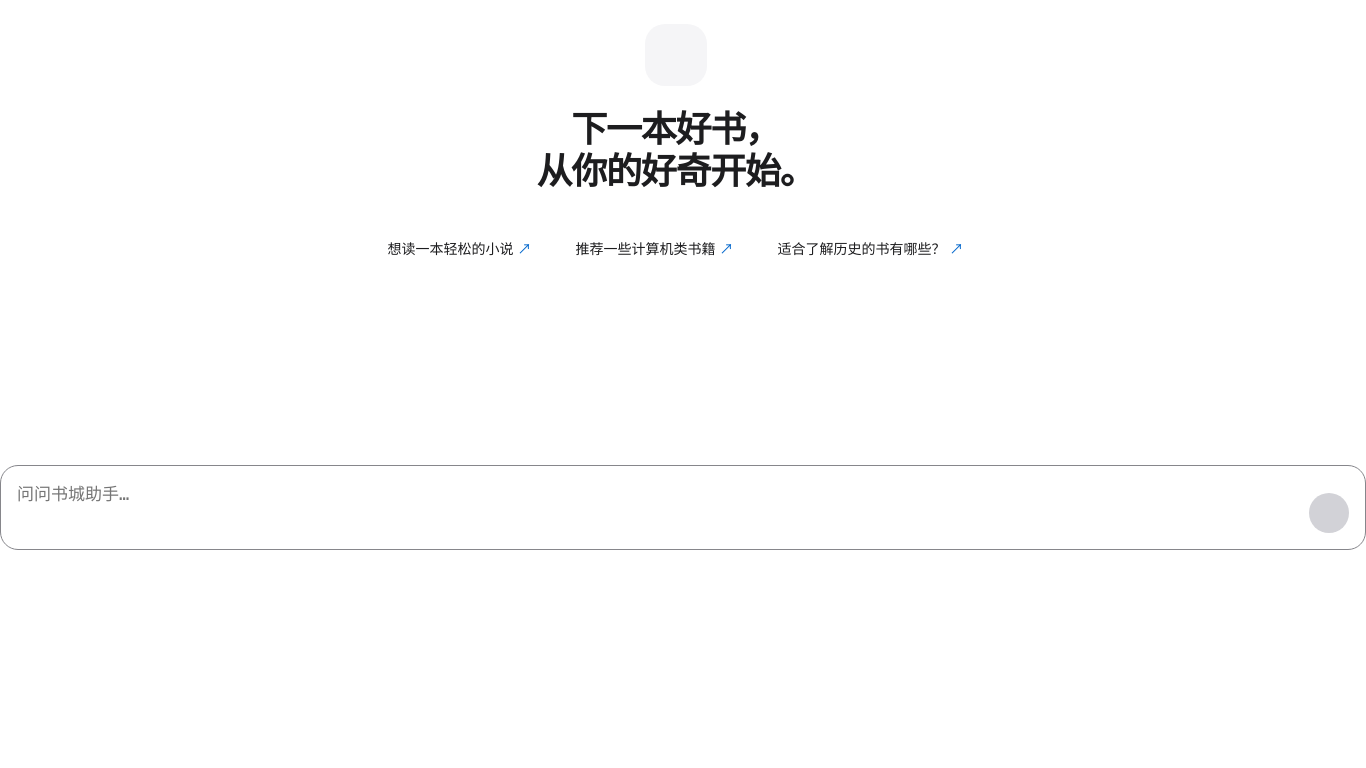
it: AI conversation › keeps a failed question available for retry
Type "推荐历史书" into the text box with placeholder "问问书城助手…" at coordinates (657, 508), box 17,482 -> 1297,533
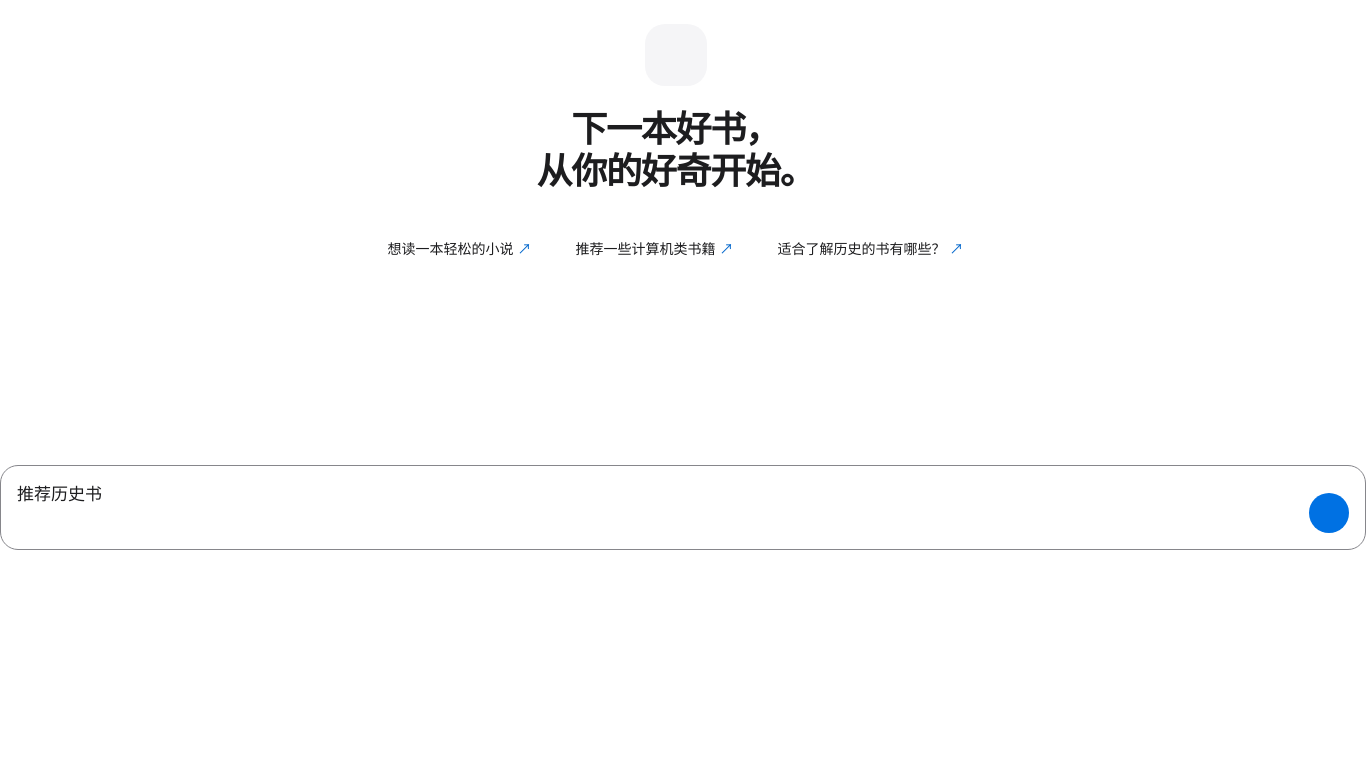
Submit the form, box 0,465 -> 1365,550
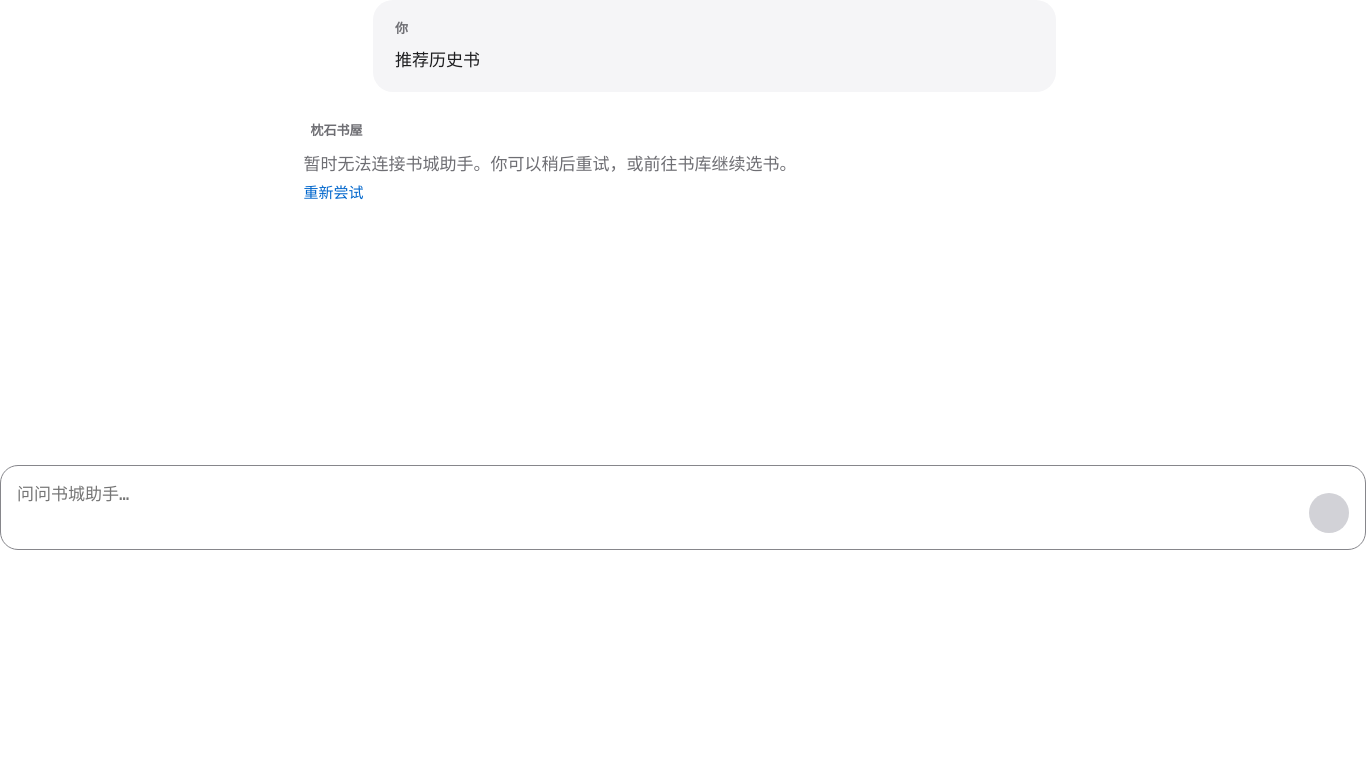
Expected: the text "重新尝试" is shown, 304,181 -> 364,205
Expected: the text "推荐历史书" is shown, 395,51 -> 480,70
